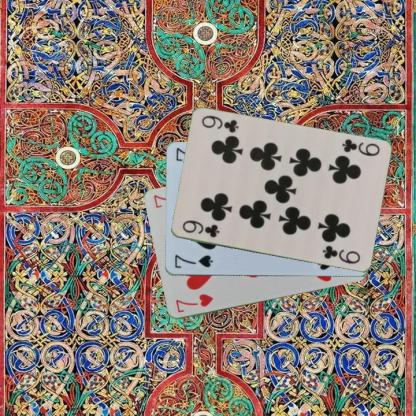7h: (173, 292, 214, 314)
7s: (172, 252, 214, 269)
9c: (339, 136, 381, 158), (179, 218, 221, 239)
